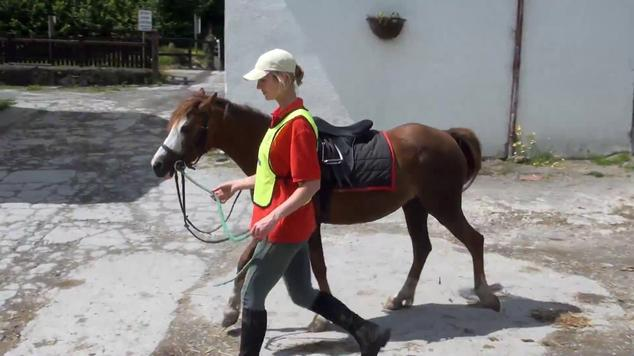down: (358, 6, 410, 37), (515, 298, 578, 321)
